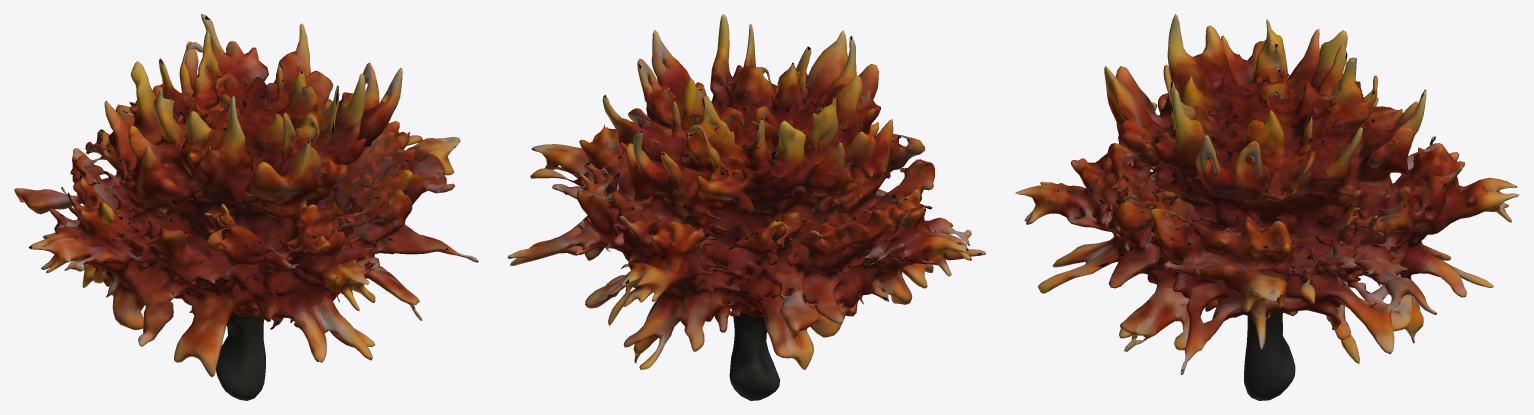
File: c0a818c8cabb_a_fireblossom__3d_a.fbx
3 renders of one model, left to right at view 1: azimuth 30°, elevation 25°; view 2: azimuth 150°, elevation 25°; view 3: azimuth 270°, elevation 25°, orthographic. The views are drawn at different scales.
Visible parts, largest first — view 1: high_poly; view 2: high_poly; view 3: high_poly.
Part boxes in pixels (x1,y1,x2,y2): high_poly: (14, 14, 478, 400); high_poly: (507, 14, 986, 400); high_poly: (1015, 14, 1519, 400).
Size of the model in its own units: 100 by 76.73 by 97.87.
